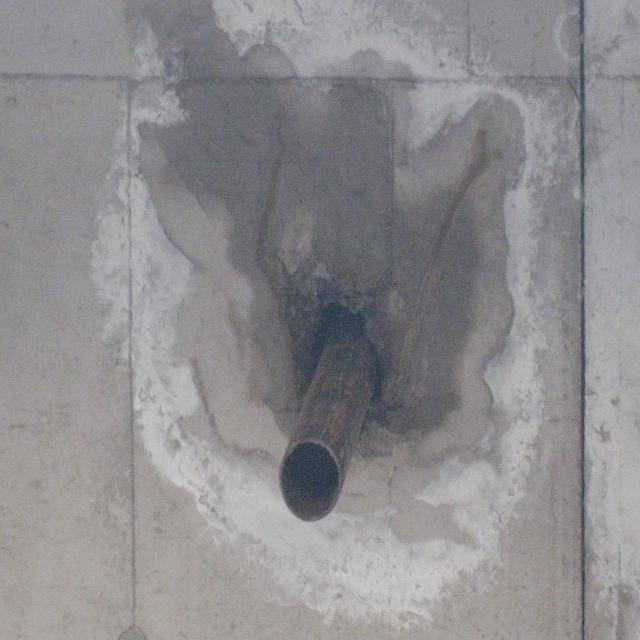corrosion: (266, 304, 406, 532)
